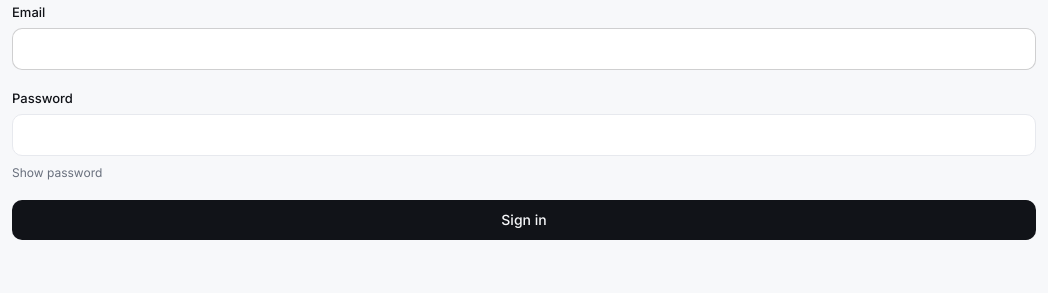
Test: LoginForm › requires email and password
Click the button "Sign in".
click(524, 220)  # box [12,200,1036,240]
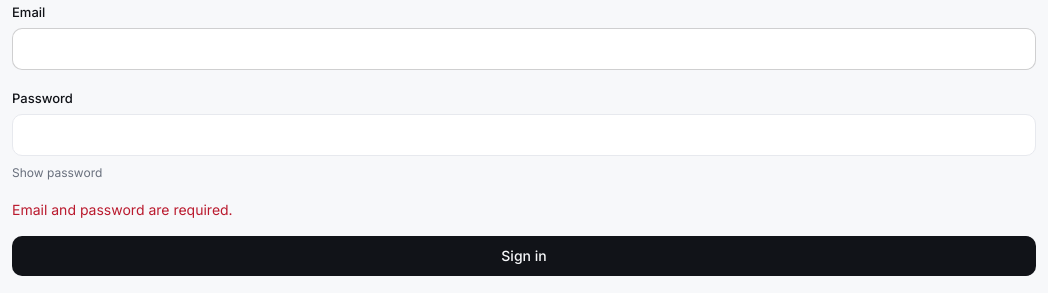
Expected: the message reads "Email and password are required.", [12,201,233,218]
